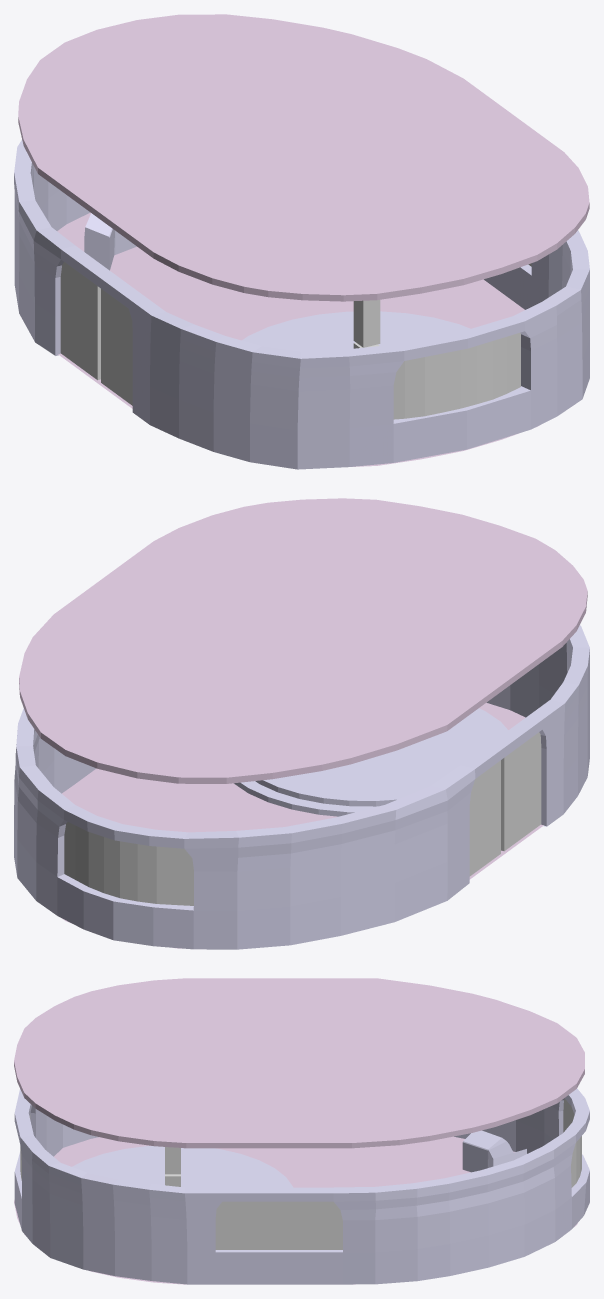
File: SpaceShip0.1.fbx
The picture shows the model from 3 angles, top to bottom: view 1: azimuth 30°, elevation 25°; view 2: azimuth 150°, elevation 25°; view 3: azimuth 270°, elevation 25°; orthographic projection. The views are drawn at different scales.
Parts seen in each view (by area): view 1: ground.001, wall, ground, Window.001, Base2, LeftDoor, RightDoor, Control1, DIsplayWindow; view 2: ground.001, wall, ground, Base2, Window, RightDoor, LeftDoor, Base1; view 3: ground.001, wall, ground, Plane, Base2, Control1, Window, Base1, DIsplayWindow.
Boxes of the visible parts, x1,y1,x2,y2 form: ground.001: (18, 14, 589, 301); wall: (14, 140, 589, 469); ground: (57, 212, 539, 466); Window.001: (393, 333, 520, 419); Base2: (248, 312, 466, 351); LeftDoor: (60, 262, 100, 380); RightDoor: (101, 289, 132, 405); Control1: (84, 213, 136, 270); DIsplayWindow: (353, 300, 380, 347); ground.001: (19, 498, 587, 783); wall: (14, 625, 589, 949); ground: (62, 702, 543, 948); Base2: (255, 710, 500, 806); Window: (64, 822, 193, 905); RightDoor: (501, 732, 541, 851); LeftDoor: (469, 760, 500, 876); Base1: (234, 708, 508, 816); ground.001: (14, 978, 584, 1148); wall: (14, 1088, 589, 1284); ground: (14, 1136, 577, 1284); Plane: (215, 1201, 342, 1249); Base2: (76, 1146, 282, 1187); Control1: (462, 1130, 513, 1172); Window: (563, 1099, 581, 1187); Base1: (72, 1146, 292, 1187); DIsplayWindow: (165, 1147, 180, 1174).
Bounding box in the file's own units: 3728 × 1519 × 5470.
